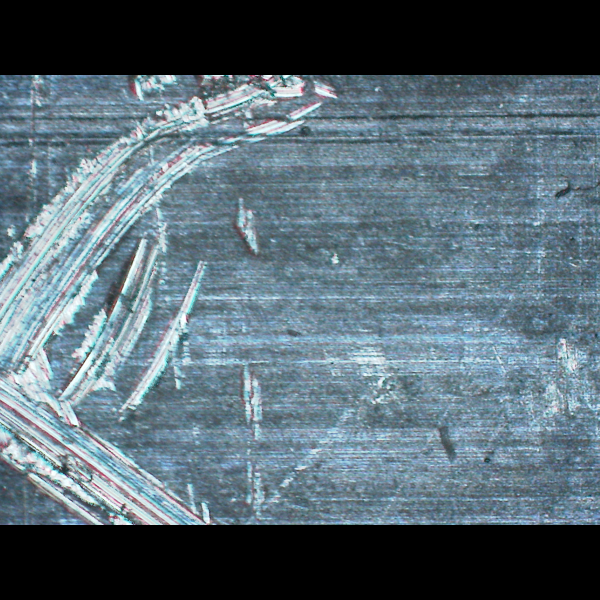d: (0, 76, 347, 524)
